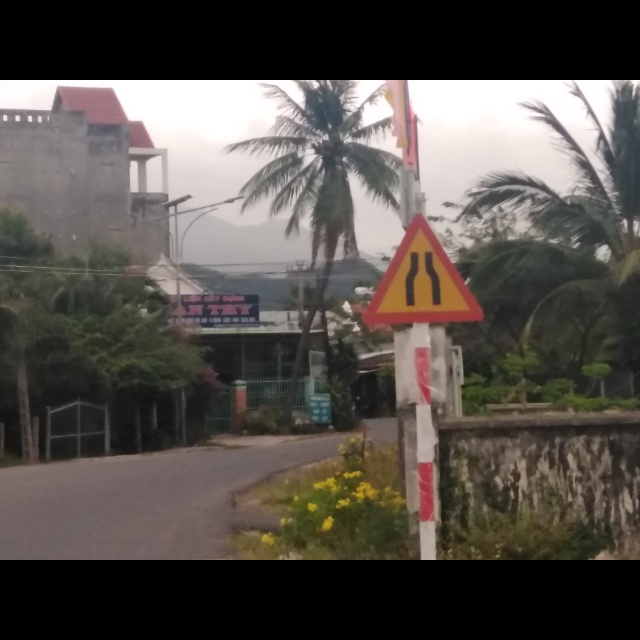Đường bị hẹp cả hai bên: (363, 212, 484, 323)
